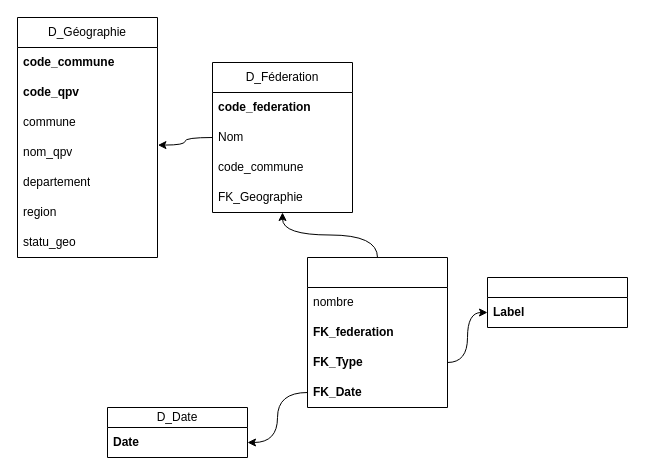
Image size: 645x475. Some labels were removed from this diagram. Here are the shapes that lost their labels. From the top down, the box of each, then its label:
(486, 276, 628, 328): D_Type
(306, 256, 448, 408): F_Club
